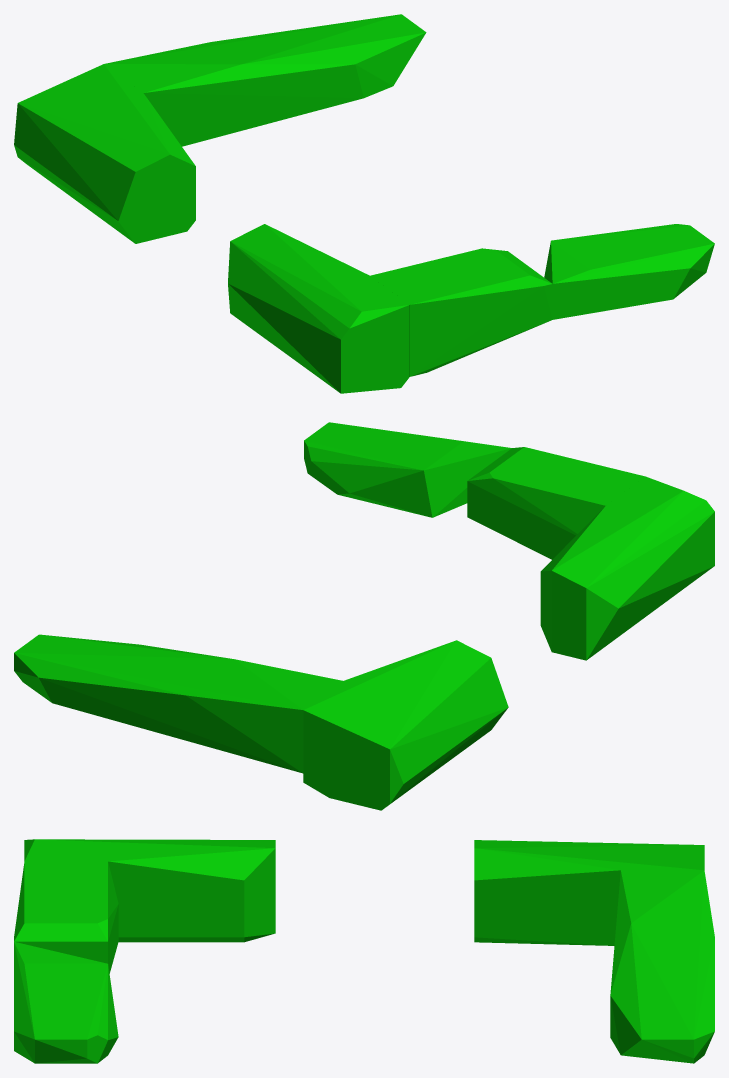
The model's file is UCX_Door2Knob.fbx.
3 renders of one model, top to bottom at view 1: azimuth 30°, elevation 25°; view 2: azimuth 150°, elevation 25°; view 3: azimuth 270°, elevation 25°, orthographic. The views are drawn at different scales.
Visible parts, largest first — view 1: UCX_Door2Knob; view 2: UCX_Door2Knob; view 3: UCX_Door2Knob.
Boxes of the visible parts, x1,y1,x2,y2 form: UCX_Door2Knob: [14, 14, 714, 393]; UCX_Door2Knob: [14, 422, 714, 810]; UCX_Door2Knob: [14, 839, 714, 1063].
Bounding box in the file's own units: 0.1274 × 0.0255 × 0.1897.
